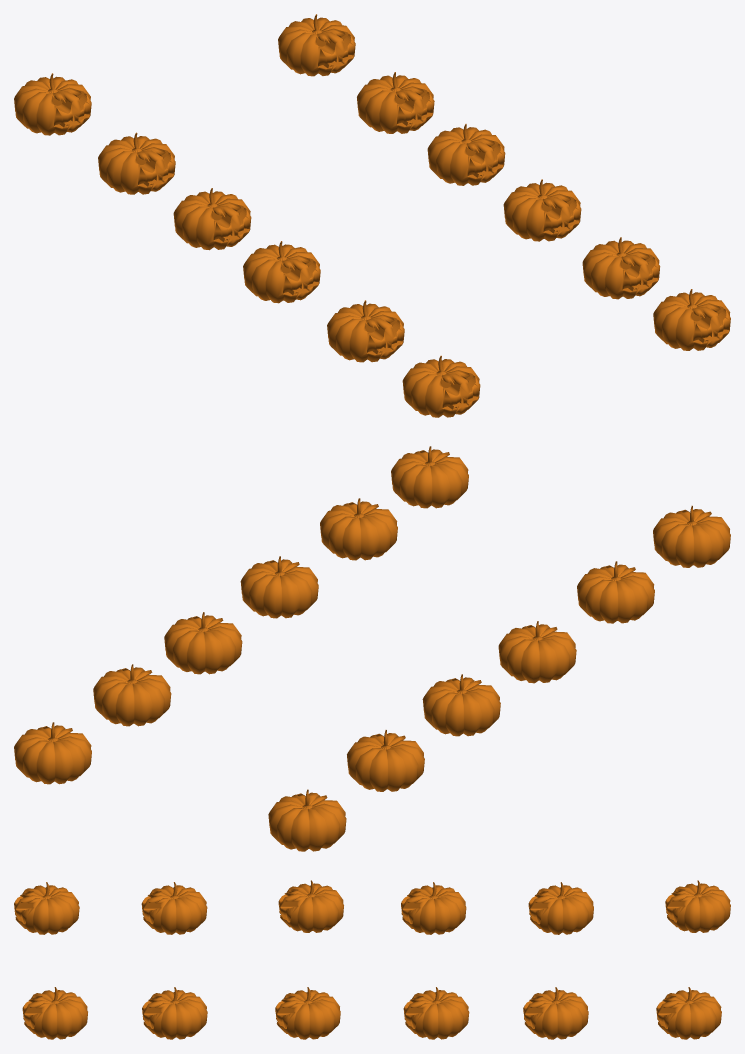
The model's file is citrouille.dae.
3 views of the same model, one above another, from view 1: azimuth 30°, elevation 25°; view 2: azimuth 150°, elevation 25°; view 3: azimuth 270°, elevation 25° (orthographic). The views are drawn at different scales.
Parts seen in each view (by area): view 1: pumpkin_009, pumpkin_011, pumpkin_001, pumpkin_010, pumpkin_006, pumpkin_003, pumpkin, pumpkin_005, pumpkin_004, pumpkin_007, pumpkin_002, pumpkin_008; view 2: pumpkin_008, pumpkin_009, pumpkin_006, pumpkin_010, pumpkin_007, pumpkin_011, pumpkin_003, pumpkin_004, pumpkin_002, pumpkin_001, pumpkin, pumpkin_005; view 3: pumpkin_005, pumpkin_008, pumpkin_009, pumpkin_011, pumpkin_006, pumpkin_002, pumpkin, pumpkin_007, pumpkin_001, pumpkin_010, pumpkin_004, pumpkin_003.
Part boxes in pixels (x1,y1,x2,y2): pumpkin_009: [503, 179, 581, 241]; pumpkin_011: [653, 289, 730, 350]; pumpkin_001: [98, 132, 175, 194]; pumpkin_010: [582, 237, 660, 299]; pumpkin_006: [402, 355, 480, 417]; pumpkin_003: [173, 188, 251, 250]; pumpkin: [14, 73, 91, 135]; pumpkin_005: [278, 14, 355, 76]; pumpkin_004: [357, 72, 434, 133]; pumpkin_007: [327, 300, 404, 362]; pumpkin_002: [427, 124, 505, 185]; pumpkin_008: [243, 241, 320, 303]; pumpkin_008: [498, 621, 576, 683]; pumpkin_009: [240, 556, 318, 618]; pumpkin_006: [653, 505, 730, 567]; pumpkin_010: [320, 498, 397, 560]; pumpkin_007: [577, 561, 654, 623]; pumpkin_011: [391, 446, 468, 508]; pumpkin_003: [422, 674, 500, 736]; pumpkin_004: [93, 664, 171, 726]; pumpkin_002: [164, 612, 242, 674]; pumpkin_001: [347, 730, 424, 791]; pumpkin: [268, 789, 346, 851]; pumpkin_005: [14, 722, 91, 784]; pumpkin_005: [656, 987, 721, 1039]; pumpkin_008: [278, 880, 343, 932]; pumpkin_009: [275, 987, 340, 1039]; pumpkin_011: [22, 987, 87, 1039]; pumpkin_006: [14, 882, 79, 934]; pumpkin_002: [403, 987, 469, 1039]; pumpkin: [665, 880, 730, 932]; pumpkin_007: [141, 882, 207, 934]; pumpkin_001: [528, 882, 593, 934]; pumpkin_010: [142, 987, 207, 1039]; pumpkin_004: [523, 987, 588, 1039]; pumpkin_003: [401, 882, 466, 934].
Size of the model in its own units: 21.44 by 48.36 by 3.35.
